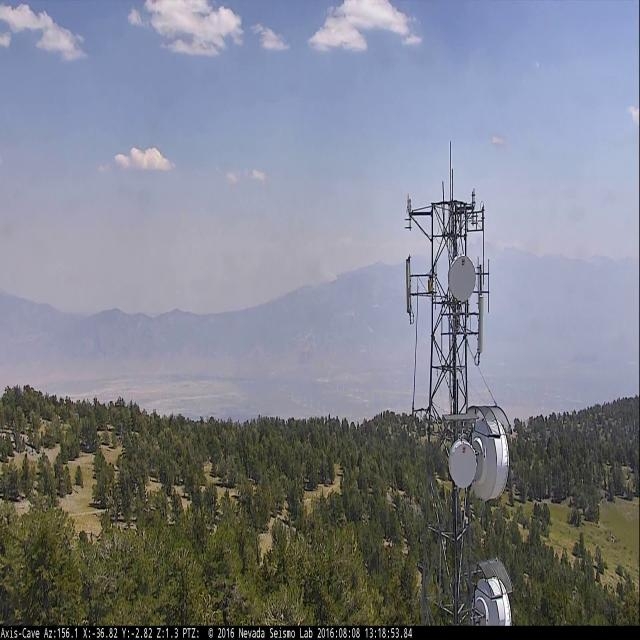smoke: (315, 260, 339, 285)
